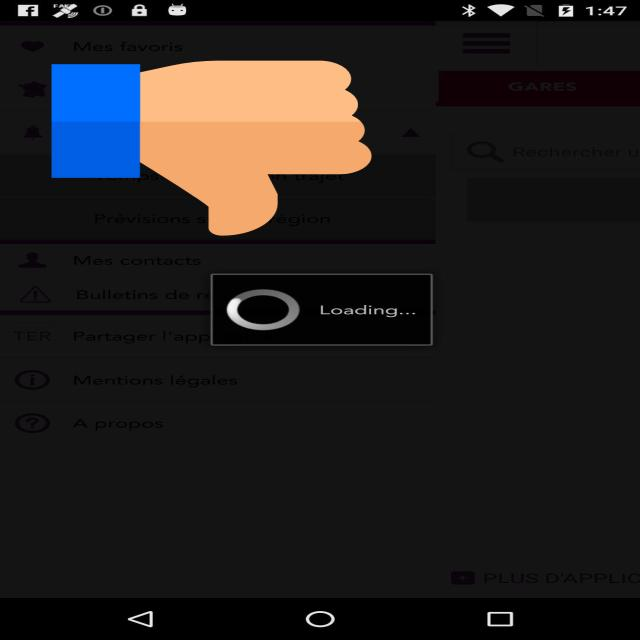obstruction: (51, 56, 372, 240)
